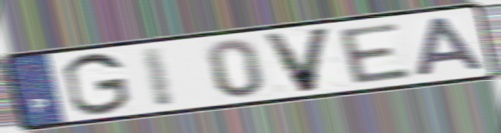0: (205, 36, 268, 101)
A: (411, 15, 491, 79)
E: (335, 21, 415, 86)
G: (59, 51, 133, 118)
I: (137, 44, 178, 110)
V: (258, 24, 337, 95)
